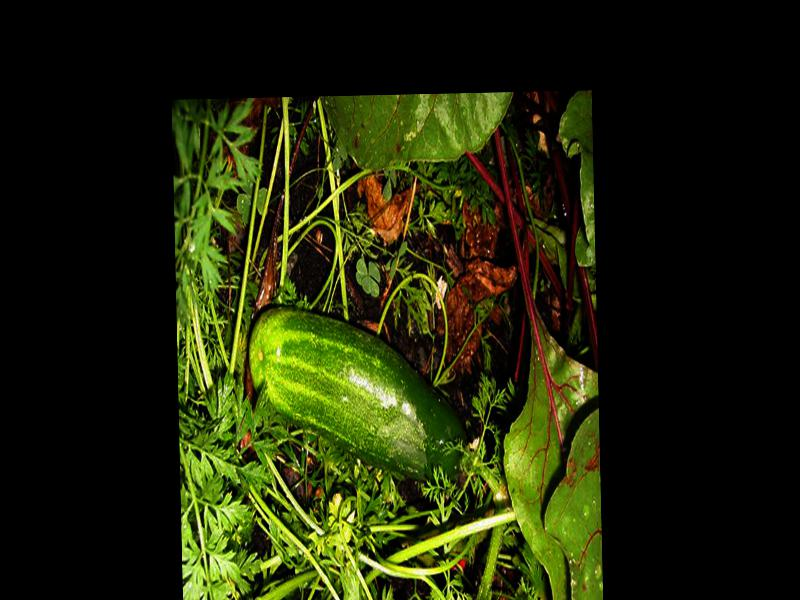Cucumber: (250, 301, 468, 494)
